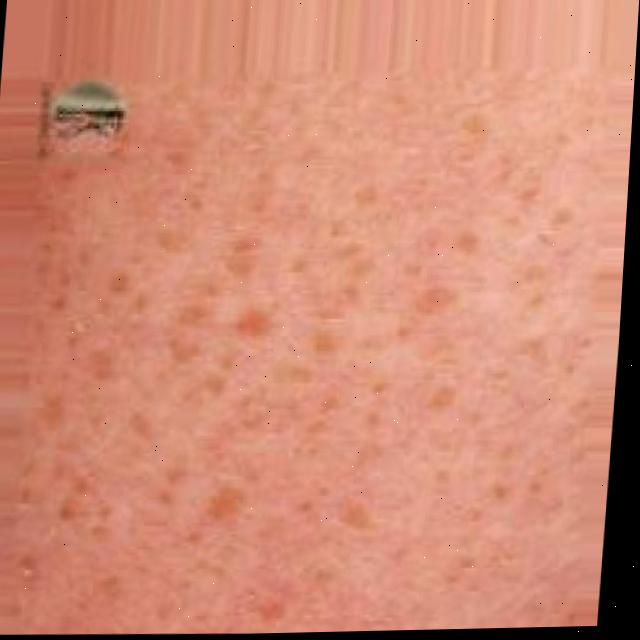Eczema: (78, 104, 494, 637)
